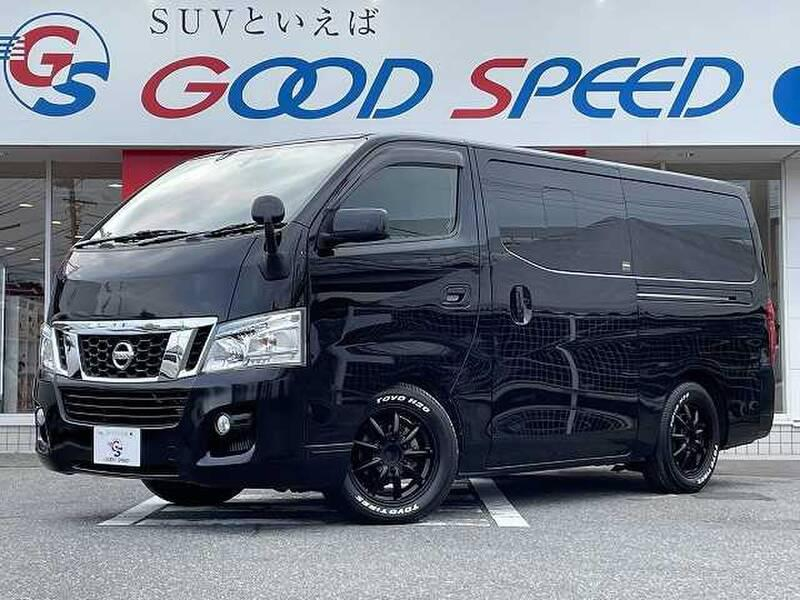Van: (42, 140, 781, 518)
